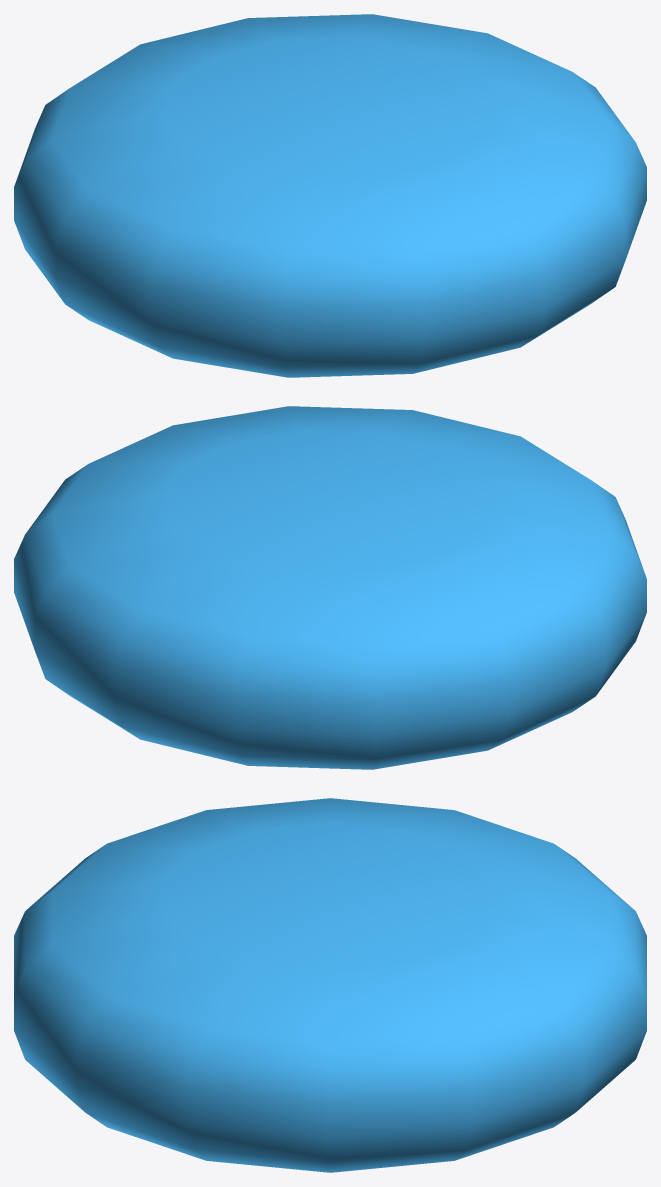
File: Dragee Blue.fbx
The picture shows the model from 3 angles, top to bottom: view 1: azimuth 30°, elevation 25°; view 2: azimuth 150°, elevation 25°; view 3: azimuth 270°, elevation 25°; orthographic projection. The views are drawn at different scales.
Visible parts, largest first — view 1: Dragee Blue; view 2: Dragee Blue; view 3: Dragee Blue.
Part boxes in pixels (box(x1,y1,x2,y2)): Dragee Blue: box(14, 14, 646, 377); Dragee Blue: box(14, 406, 646, 769); Dragee Blue: box(14, 798, 646, 1172).
Bounding box in the file's own units: 0.0851 × 0.0277 × 0.083.
